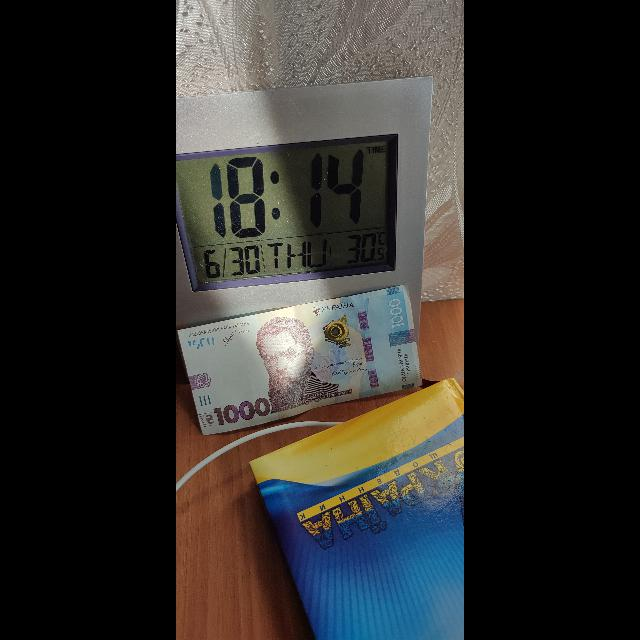1000uah: (180, 285, 423, 437)
